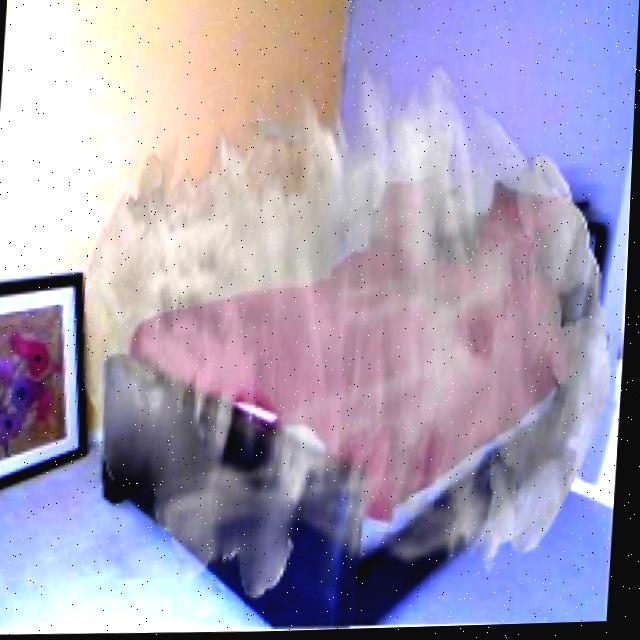Smoke: (67, 55, 630, 602)
